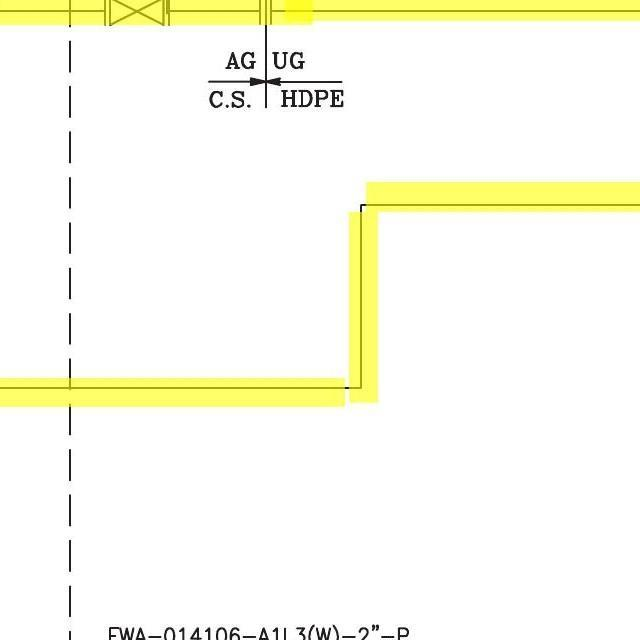GV: (106, 0, 166, 31)
